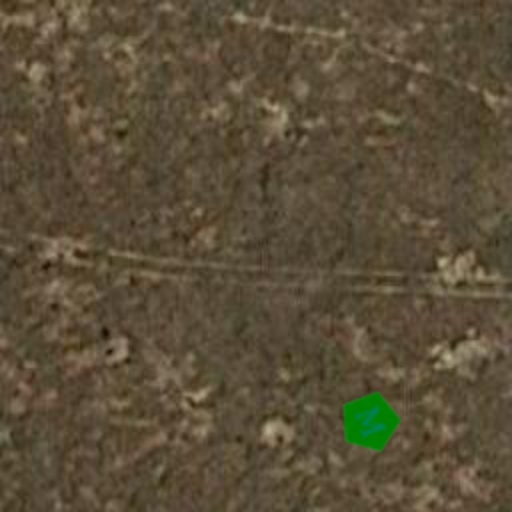pentagon: (328, 380, 412, 464)
